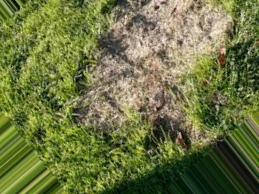patch: (92, 75, 167, 112), (122, 14, 202, 42), (108, 52, 191, 72), (89, 117, 122, 130)
